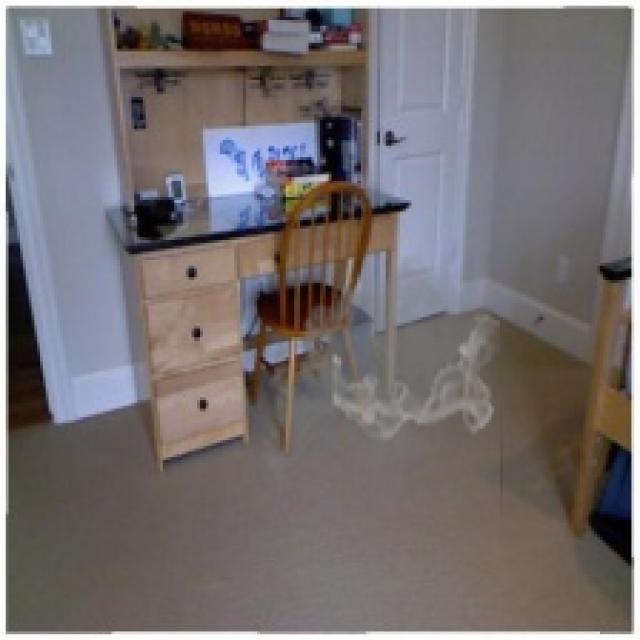smoke: (254, 243, 503, 514)
